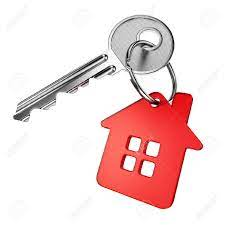key: (4, 13, 175, 124)
